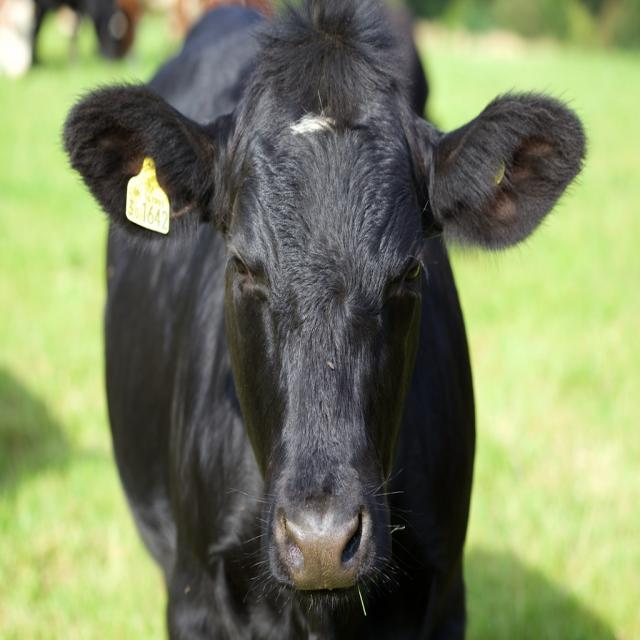Cattle: (58, 0, 590, 640)
